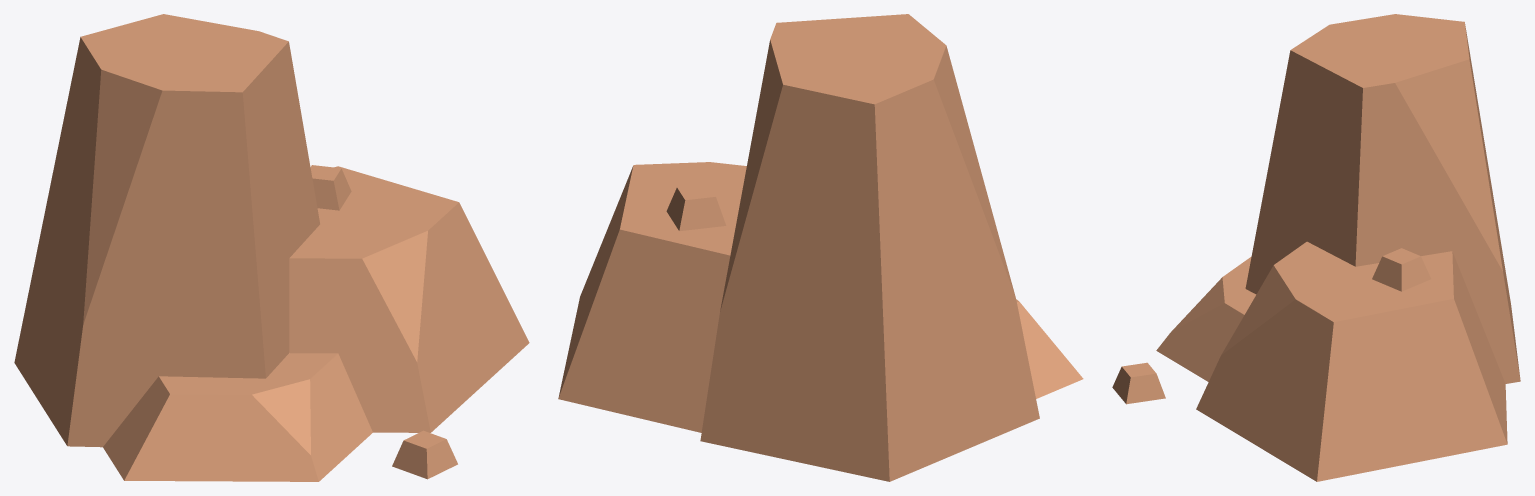
The model's file is rock-sand-a.obj.
3 views of the same model, side by side, from view 1: azimuth 30°, elevation 25°; view 2: azimuth 150°, elevation 25°; view 3: azimuth 270°, elevation 25° (orthographic). The views are drawn at different scales.
Size of the model in its own units: 0.5552 by 0.3927 by 0.4845.
